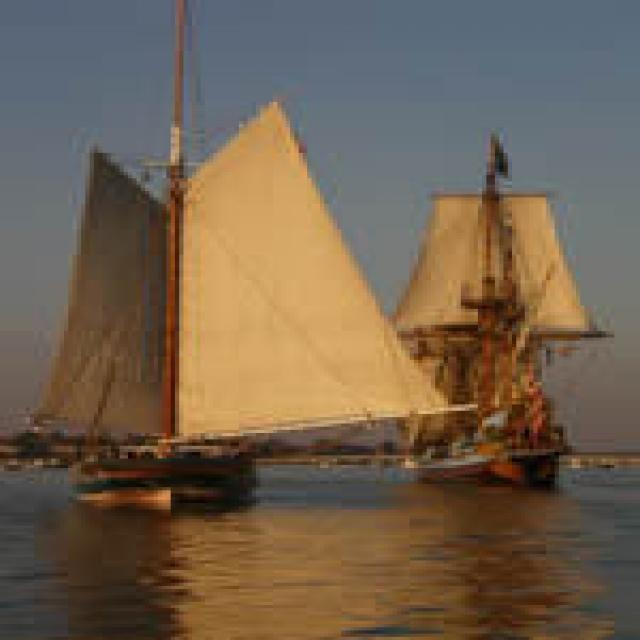Ship: (59, 7, 409, 510), (389, 100, 640, 492)
